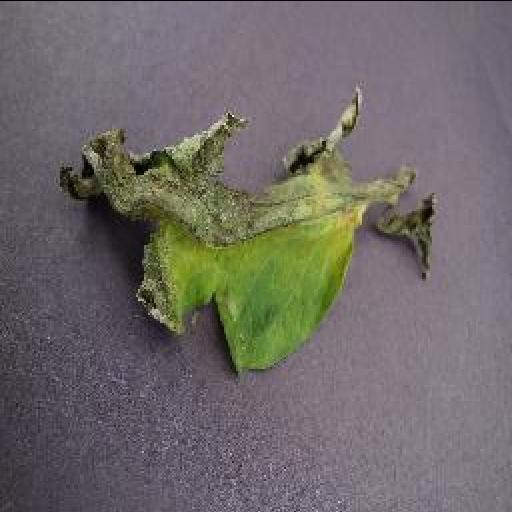disease_tomato: (57, 95, 435, 377)
